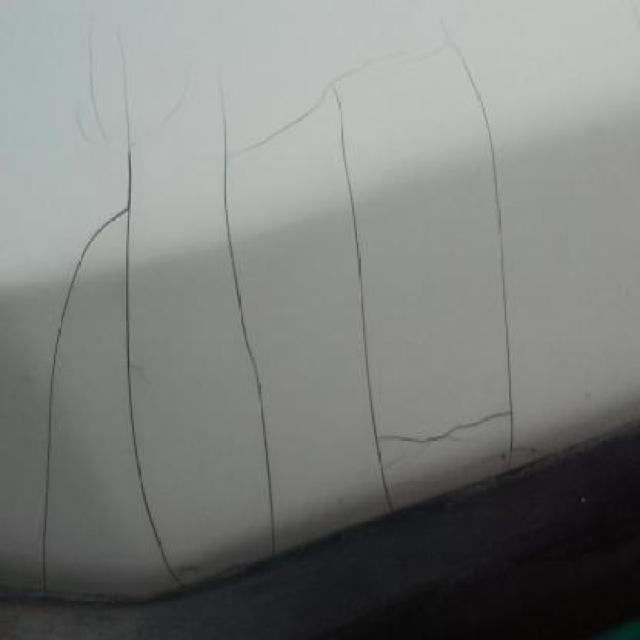crack: (232, 76, 395, 514), (38, 136, 188, 594), (378, 29, 516, 460), (216, 71, 279, 560)
